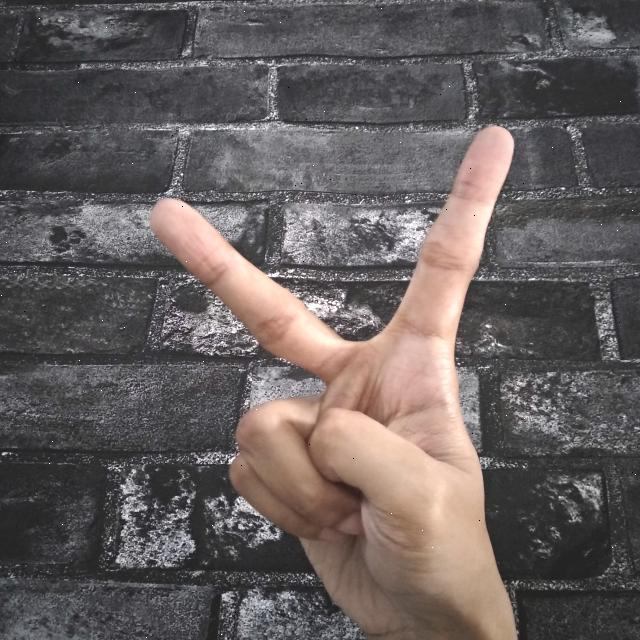V: (147, 120, 523, 640)
